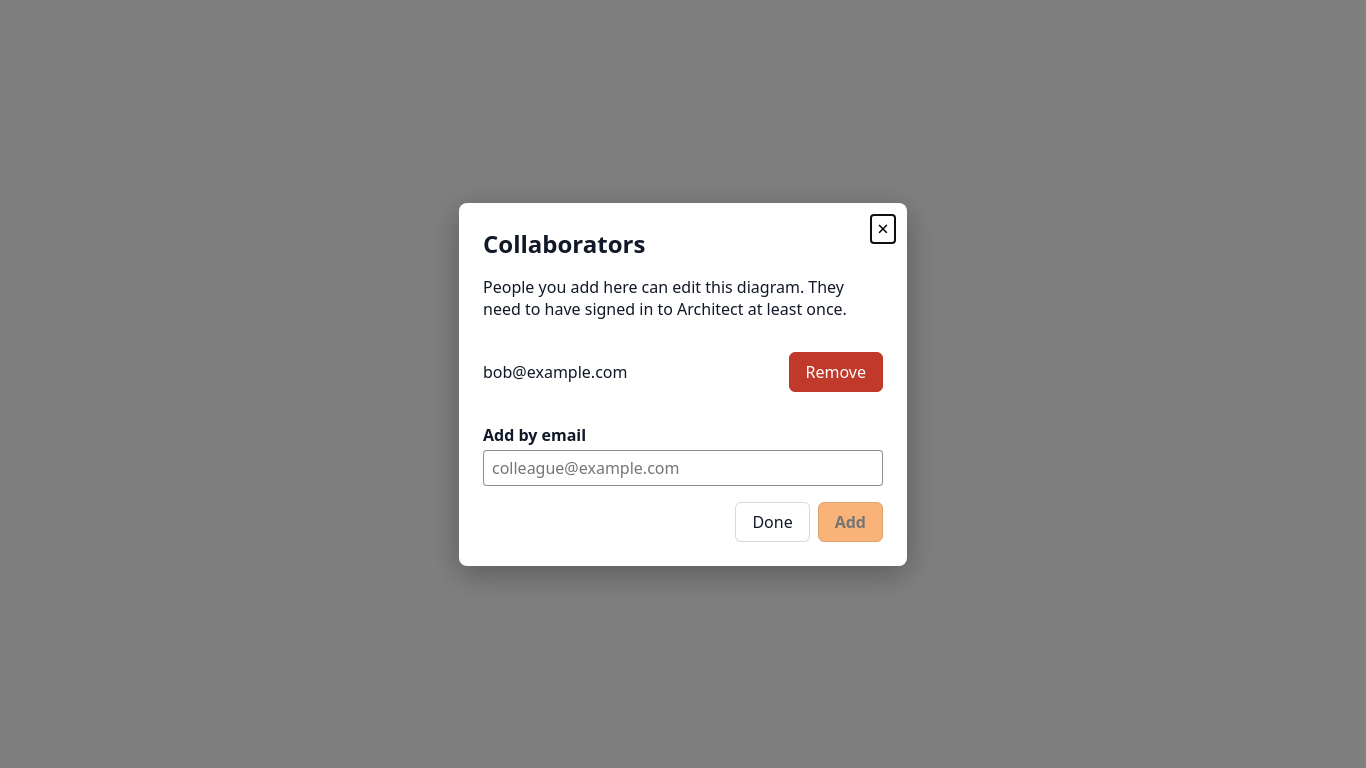
removes somebody and refreshes the list
Click the button "Remove" at {"x": 836, "y": 372}, box [788,352,883,392]
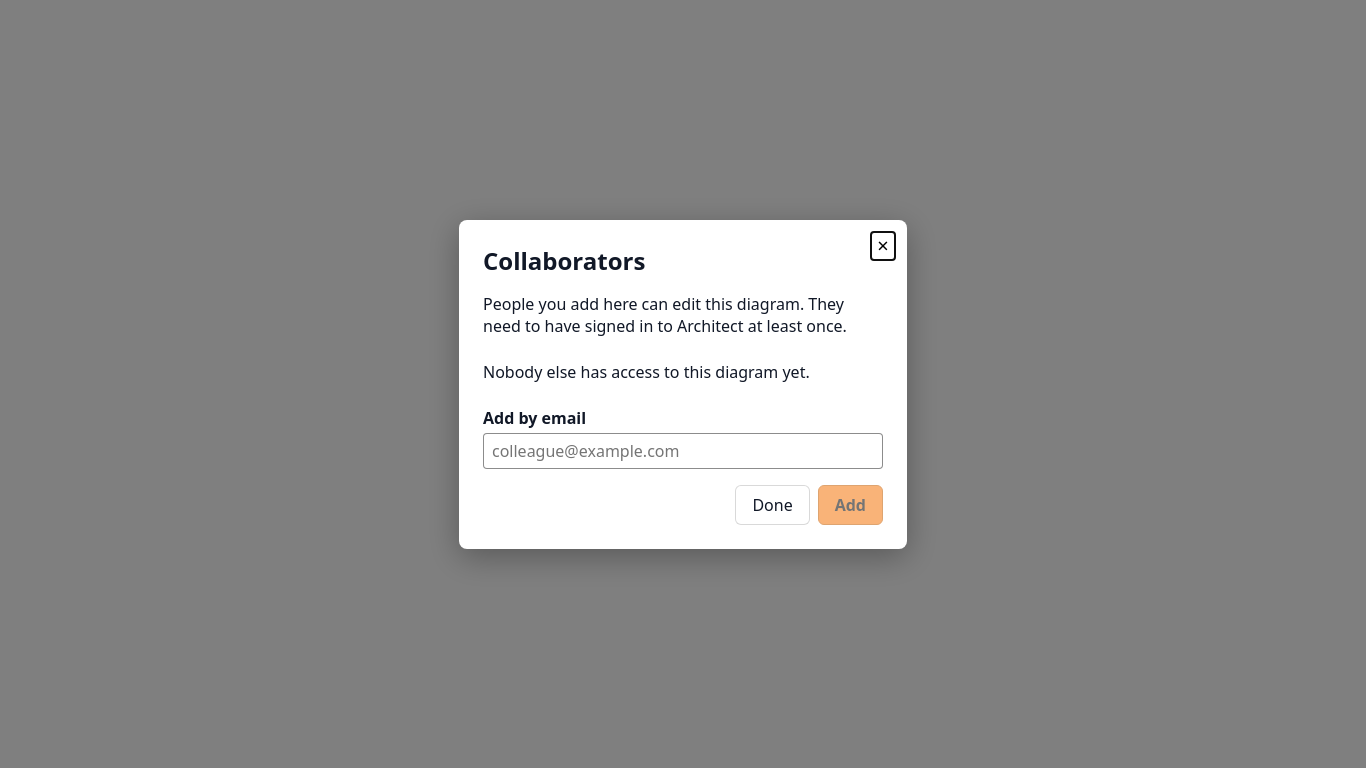
Expected: the text "Nobody else has access to this diagram yet." is shown, [483,360,810,382]
